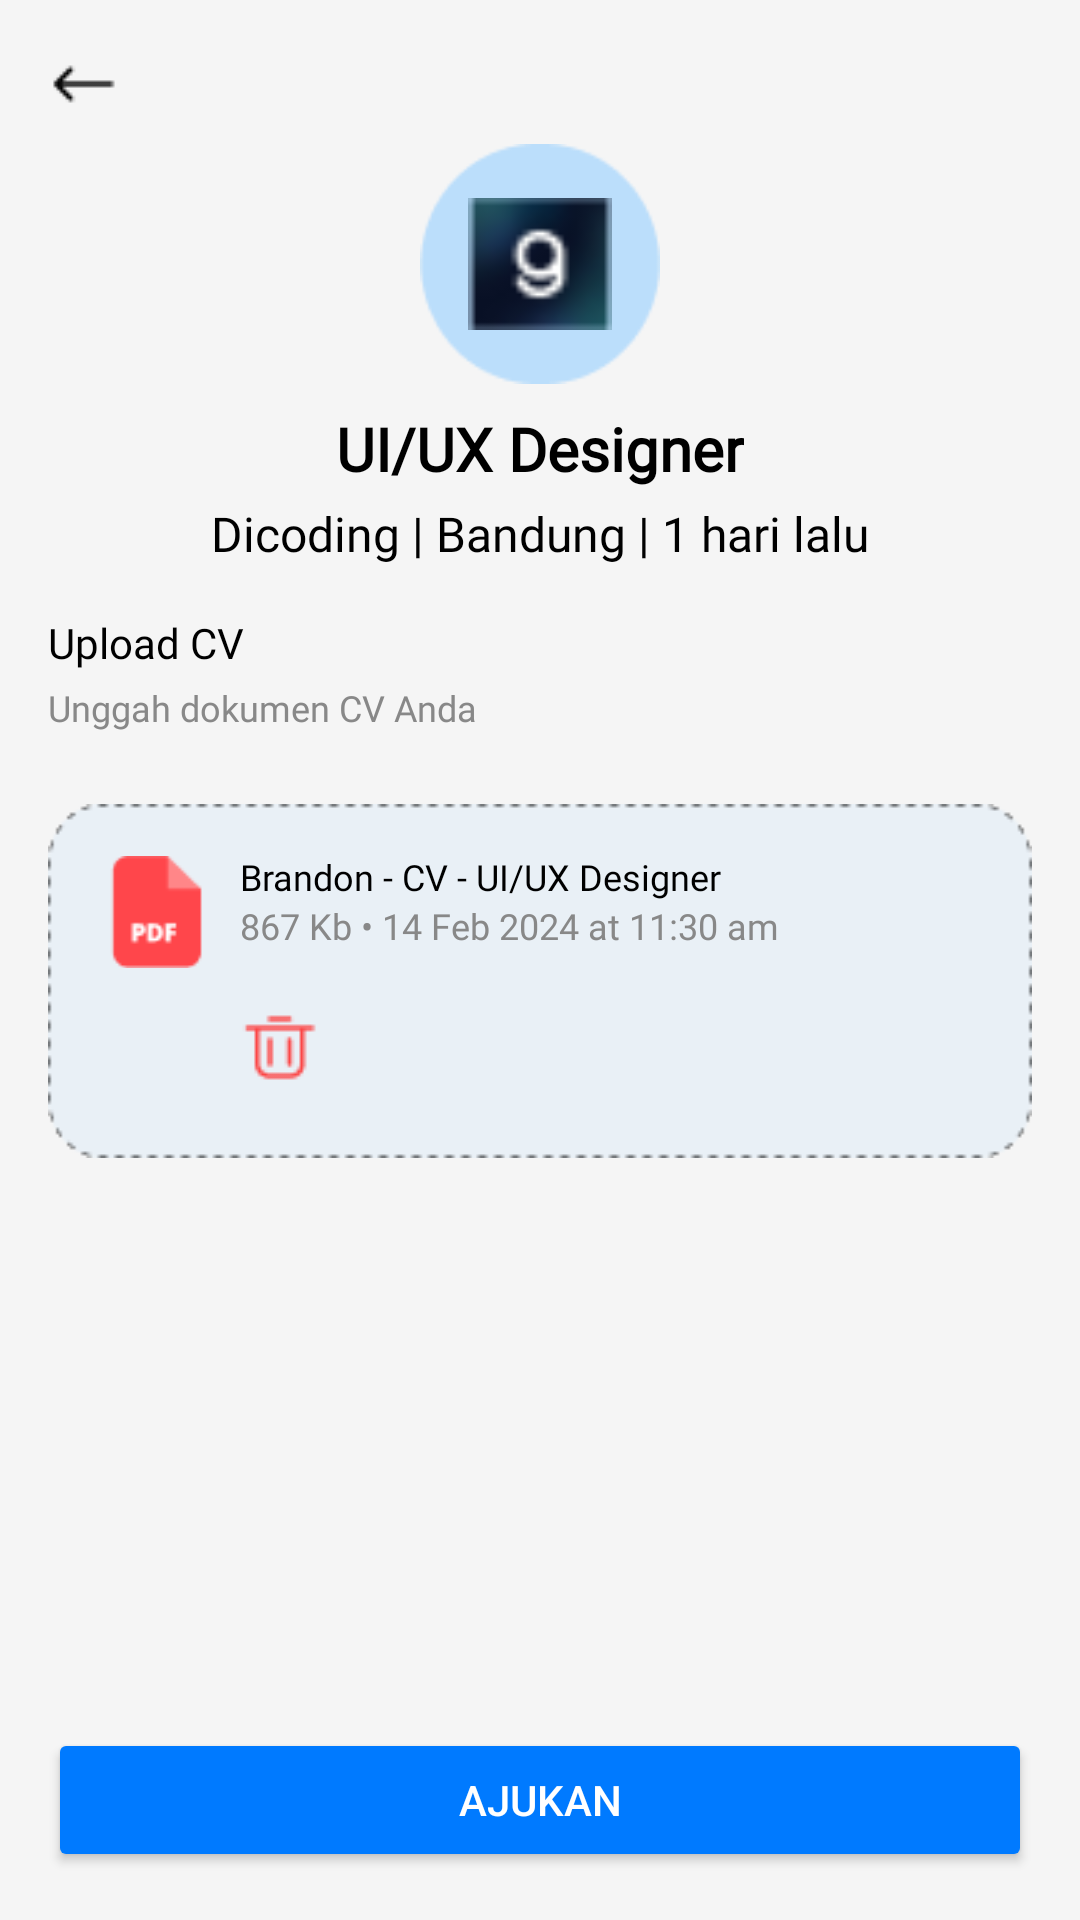

Where icons sit on this 1080×1920 app screen, as bbox=(x1, y1, x2, y2):
Back: bbox=(53, 65, 115, 103)
Delete: bbox=(245, 1015, 316, 1080)
